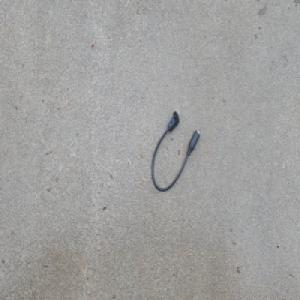Wire: (149, 109, 199, 193)
